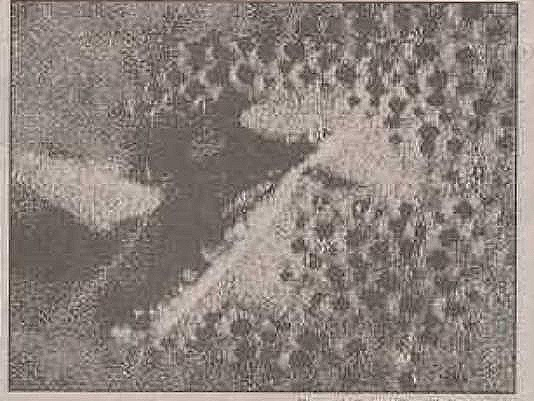aircraft: (12, 97, 408, 363)
